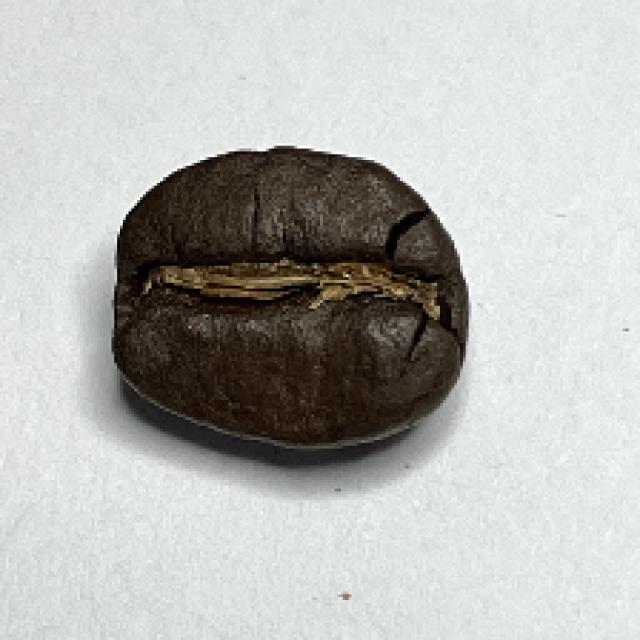bean: (106, 144, 473, 448)
